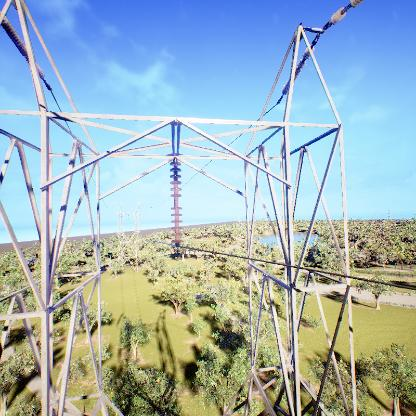insulator: (168, 156, 183, 252)
